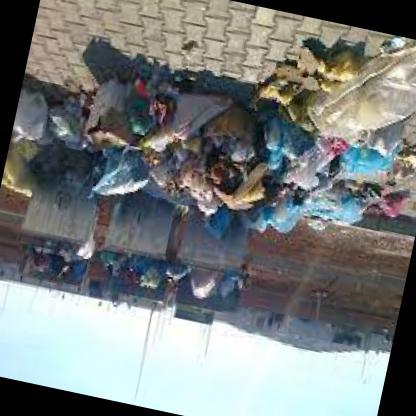Garbage: (105, 51, 304, 233), (5, 52, 126, 190), (298, 34, 415, 155), (266, 121, 377, 235), (326, 163, 410, 231), (170, 258, 242, 304), (12, 234, 84, 276), (96, 249, 162, 294)
